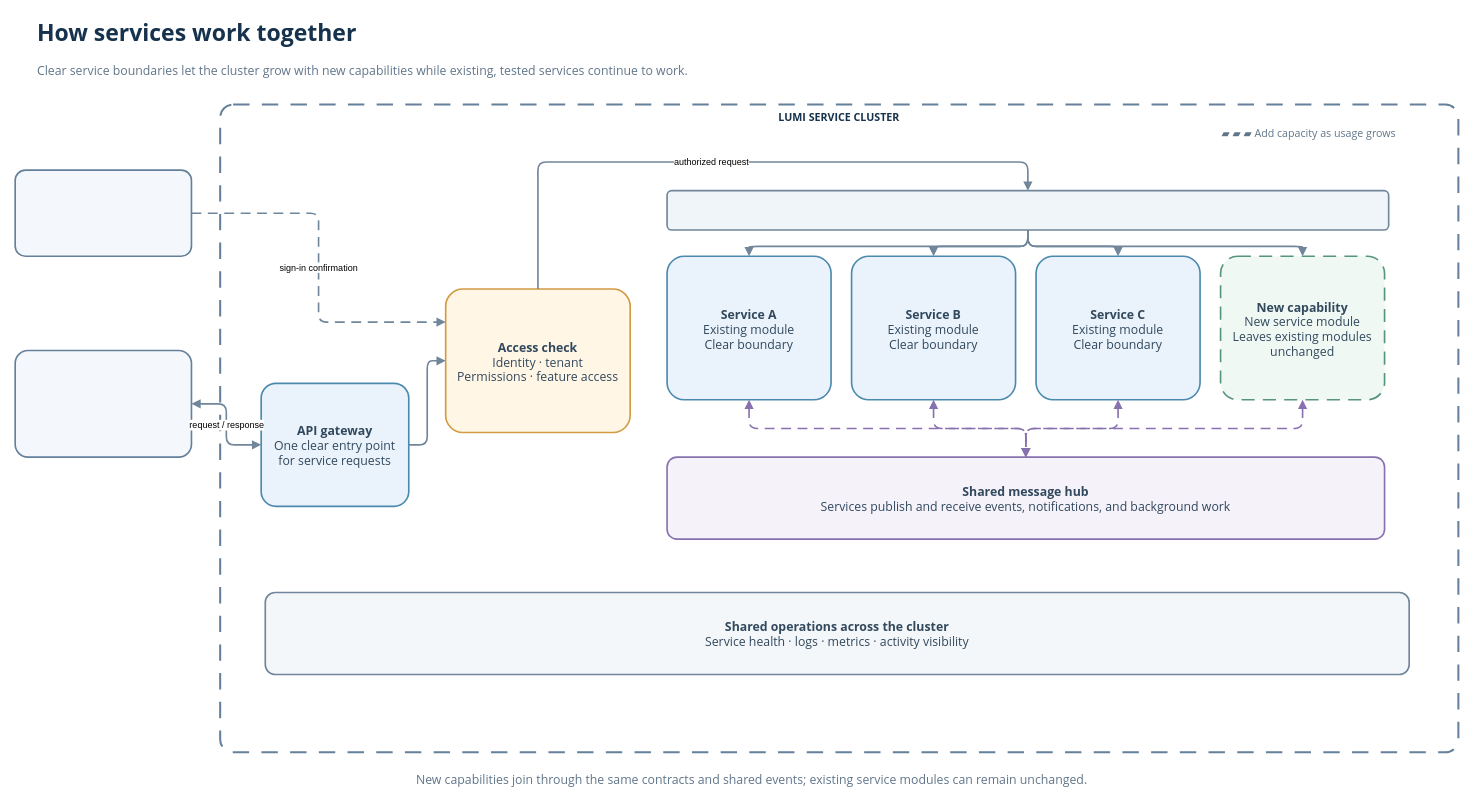
The diagram is 1480 pixels wide and 806 high, and some of its shapes have lost their labels. Each missing label, with the centre of its shape:
"Identity provider Confirms user identity" goes at (x=103, y=213).
"Stable service contracts" goes at (x=1027, y=209).
"User channels Browser or other client" goes at (x=103, y=403).
